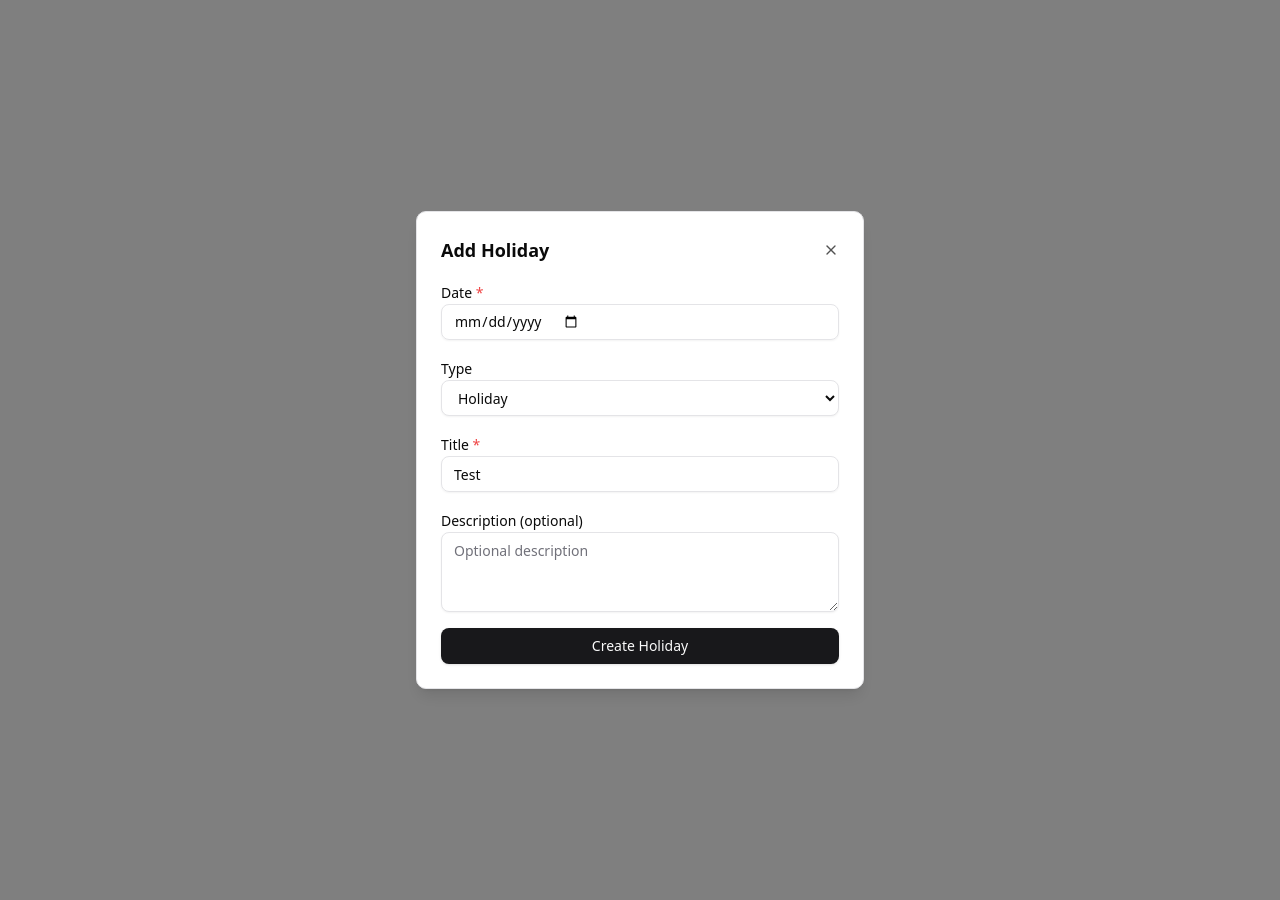
it: AddHolidayModal — validation errors are visible › shows a visible error when date is empty
Check: the date field labelled "Date *" is empty, box [441,304,839,340]
Click the button with test id "submit-holiday": coordinates (640, 646) [441,628,839,664]
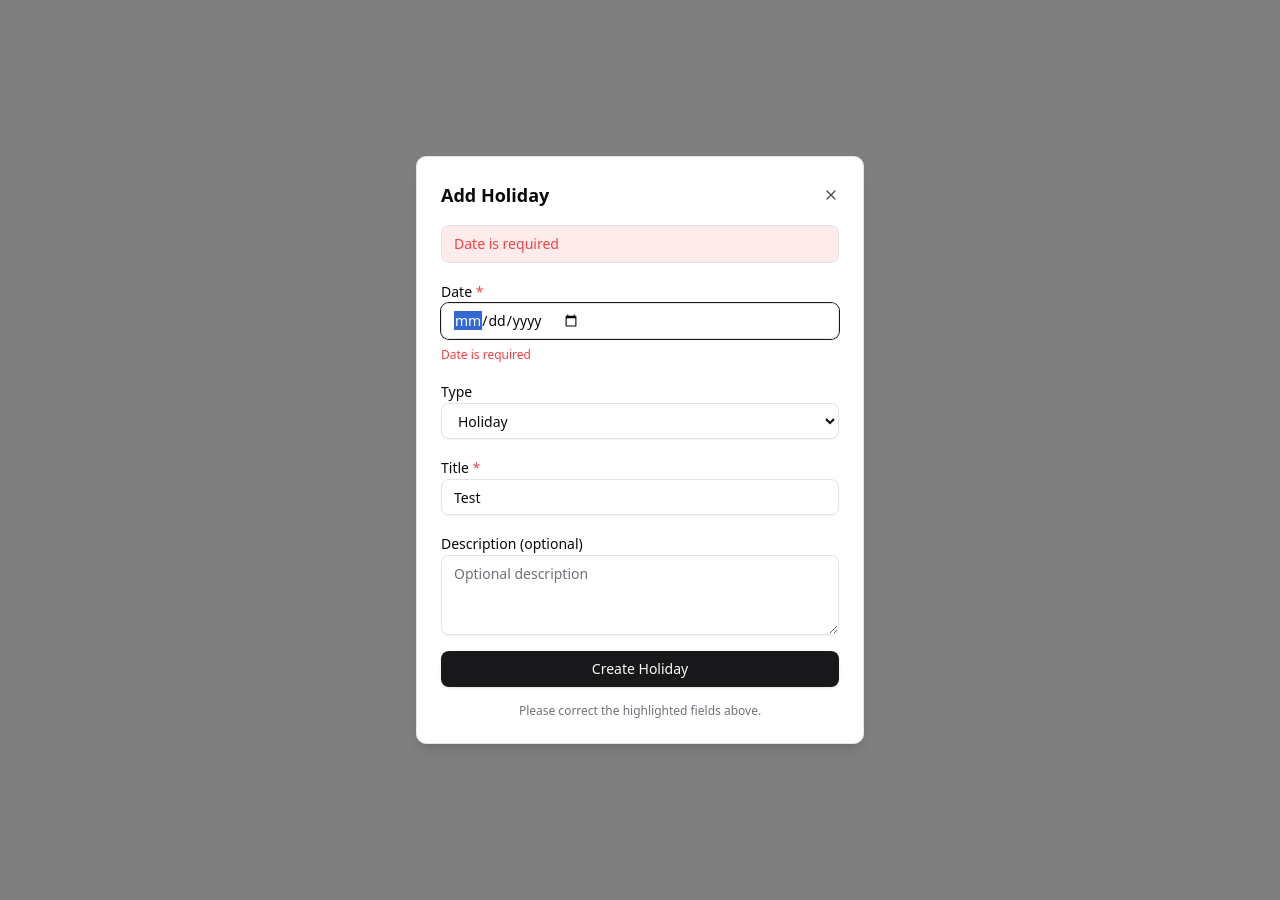
Check: the 2nd text "Date is required" is shown, box [441,346,531,363]
